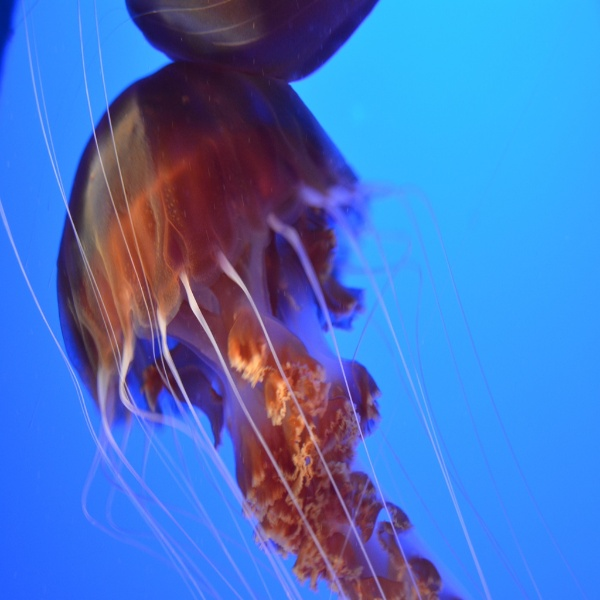Jellyfish: (59, 47, 556, 600)
